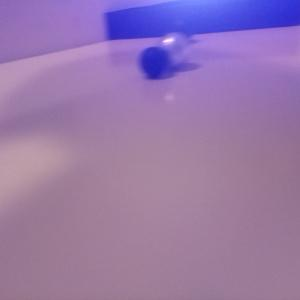alive_ball: (154, 32, 189, 68)
dead_ball: (161, 13, 194, 44), (138, 46, 169, 78)
